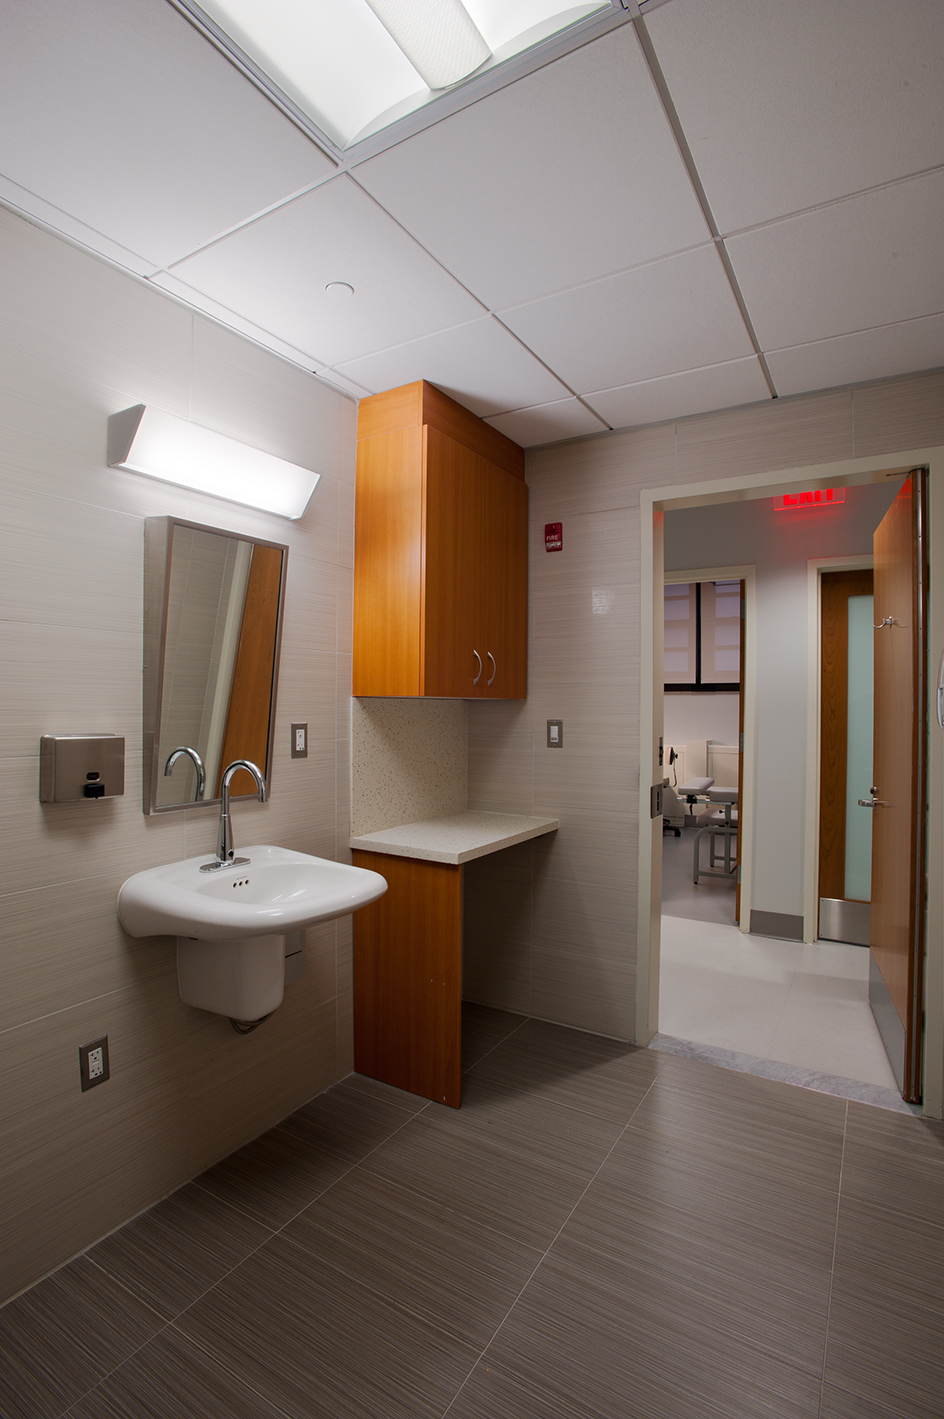counter: (347, 806, 560, 1108)
countertop: (355, 812, 566, 868)
dispenser: (39, 734, 125, 802)
door_handle: (849, 791, 893, 812)
exam_table: (678, 776, 737, 882)
faucet: (200, 758, 269, 875)
handle: (473, 649, 481, 686), (487, 652, 496, 685)
sink: (117, 841, 386, 1021)
